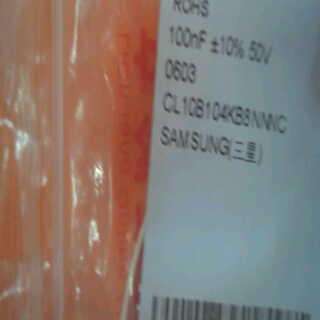100nF: (166, 25, 206, 52)
